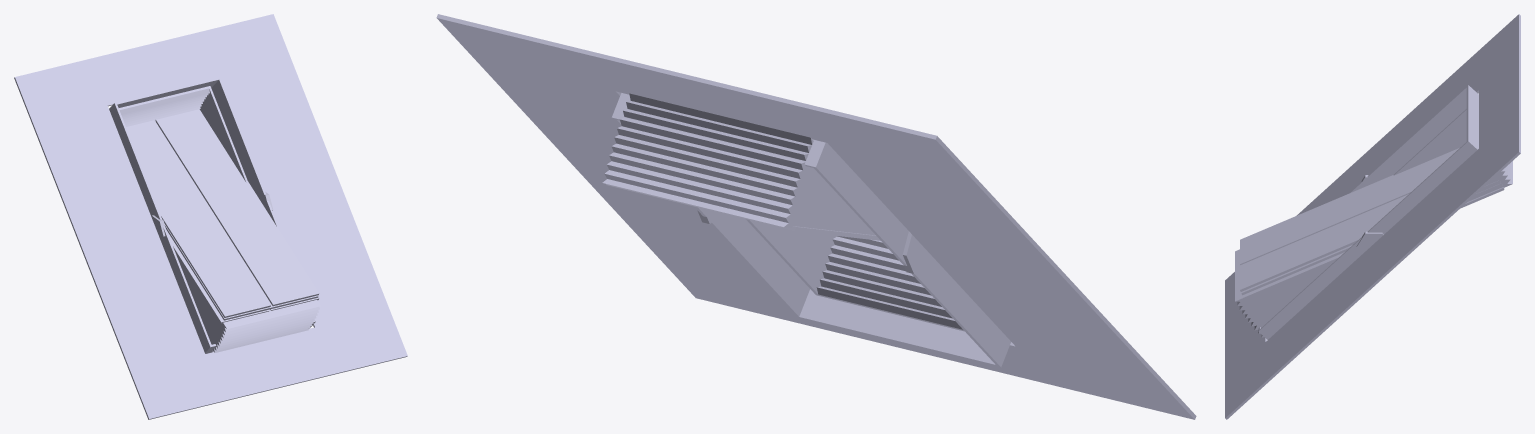
File: RotateDock_025deg.glb
3 views of the same model, side by side, from view 1: azimuth 30°, elevation 25°; view 2: azimuth 150°, elevation 25°; view 3: azimuth 270°, elevation 25° (orthographic). The views are drawn at different scales.
Visible parts, largest first — view 1: copy_Body021, copy_LinkGroup004, copy_Body, copy_Body023, copy_Body022, copy_LinkGroup003; view 2: copy_Body021, copy_Body022, copy_Body, copy_Body023, copy_LinkGroup003, copy_Body002; view 3: copy_Body021, copy_LinkGroup004, copy_Body, copy_Body023, copy_Body022, copy_LinkGroup003, copy_Body001.
Part boxes in pixels (x1=…): copy_Body021: x1=14, y1=14, x2=407, y2=419; copy_LinkGroup004: x1=126, y1=109, x2=319, y2=320; copy_Body: x1=109, y1=77, x2=316, y2=353; copy_Body023: x1=175, y1=253, x2=320, y2=352; copy_Body022: x1=119, y1=86, x2=248, y2=182; copy_LinkGroup003: x1=167, y1=231, x2=319, y2=323; copy_Body021: x1=436, y1=14, x2=1196, y2=419; copy_Body022: x1=602, y1=93, x2=875, y2=235; copy_Body: x1=612, y1=93, x2=1010, y2=367; copy_Body023: x1=746, y1=219, x2=964, y2=331; copy_LinkGroup003: x1=606, y1=184, x2=880, y2=240; copy_Body002: x1=902, y1=231, x2=930, y2=273; copy_Body021: x1=1225, y1=14, x2=1520, y2=419; copy_LinkGroup004: x1=1240, y1=148, x2=1502, y2=295; copy_Body: x1=1258, y1=85, x2=1478, y2=339; copy_Body023: x1=1235, y1=249, x2=1333, y2=337; copy_Body022: x1=1393, y1=109, x2=1512, y2=201; copy_LinkGroup003: x1=1243, y1=187, x2=1504, y2=299; copy_Body001: x1=1356, y1=231, x2=1383, y2=254.
Bounding box in the file's own units: 1.68 × 1.52 × 1.52.
